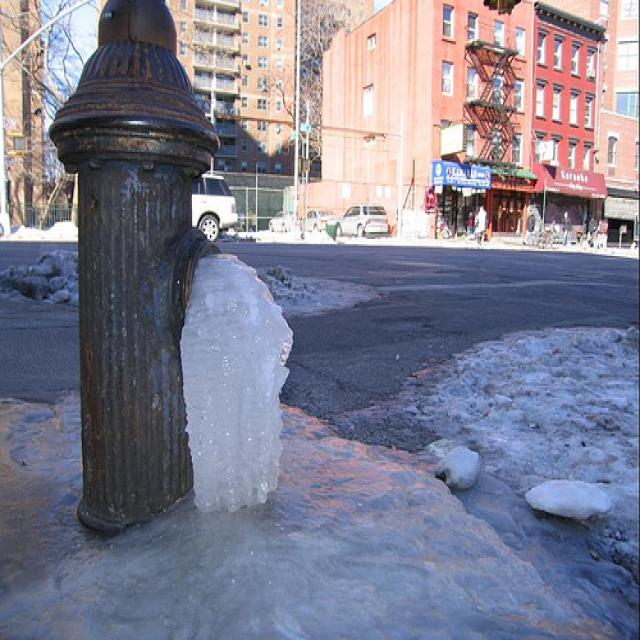fire_hydrant: (47, 0, 223, 534)
